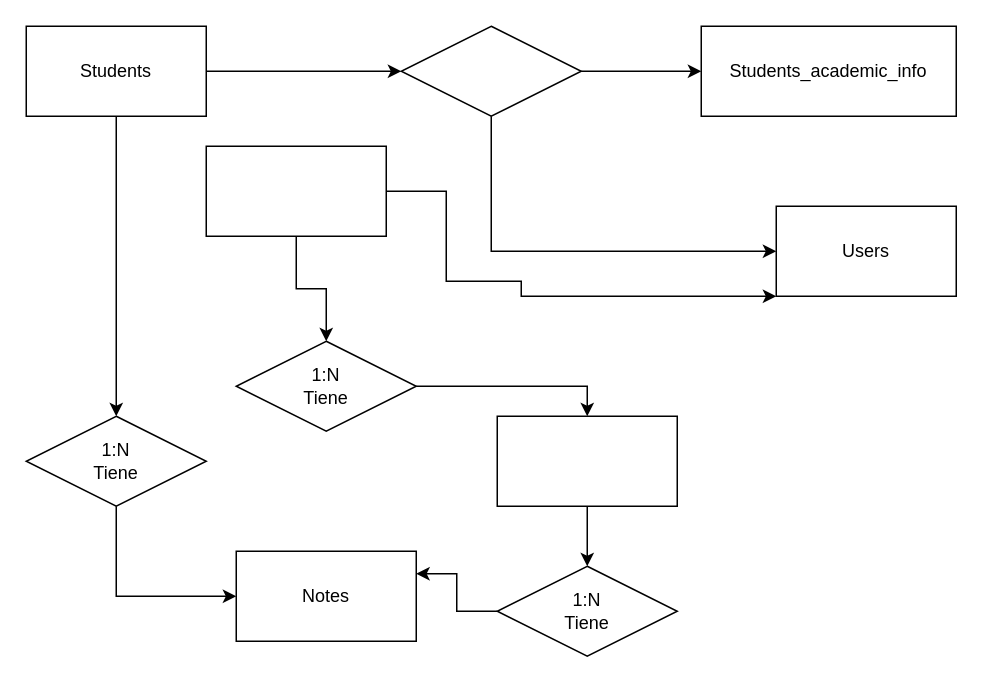
Some shapes in this 983 by 683 pixel diagram are drawn without their labels. The box of each missing label's shape, as (x1, y1, x2, y2) in pixels:
1:1 Tiene: (400, 25, 581, 116)
Courses: (496, 415, 677, 506)
Teachers: (205, 145, 386, 236)
